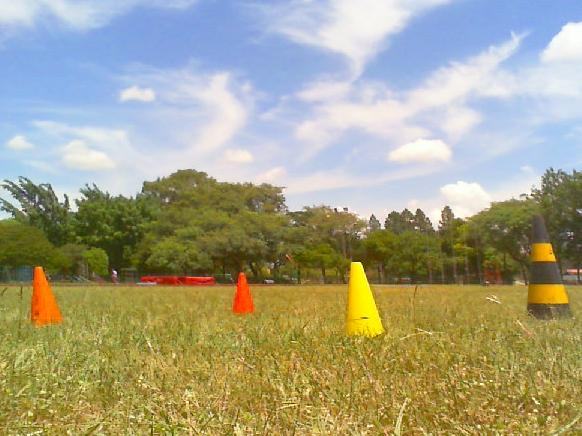0 cone: (527, 215, 573, 320), (345, 262, 384, 336), (31, 266, 63, 328), (231, 273, 257, 315)
